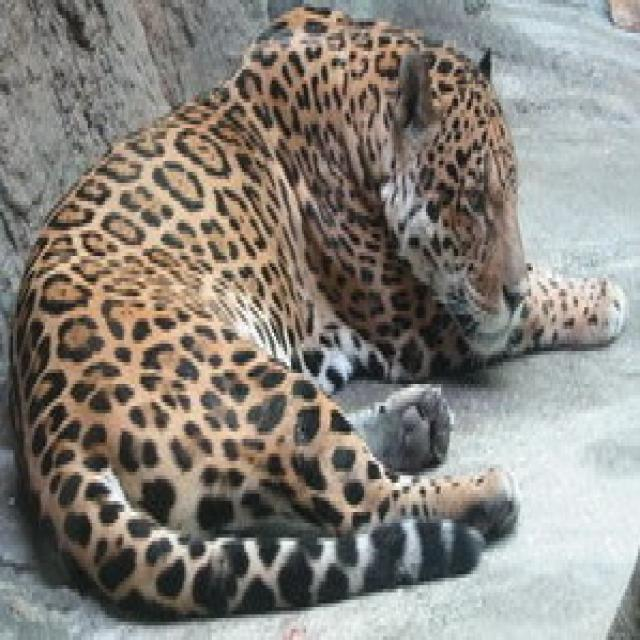Leopard: (6, 0, 629, 625)
